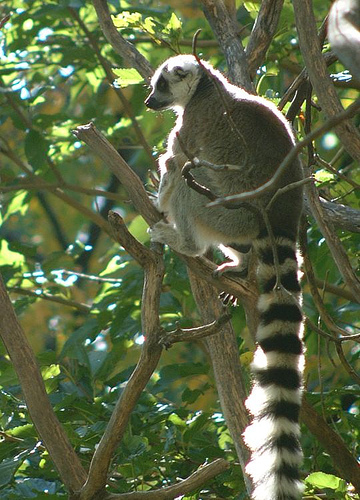cat: (143, 55, 306, 498)
